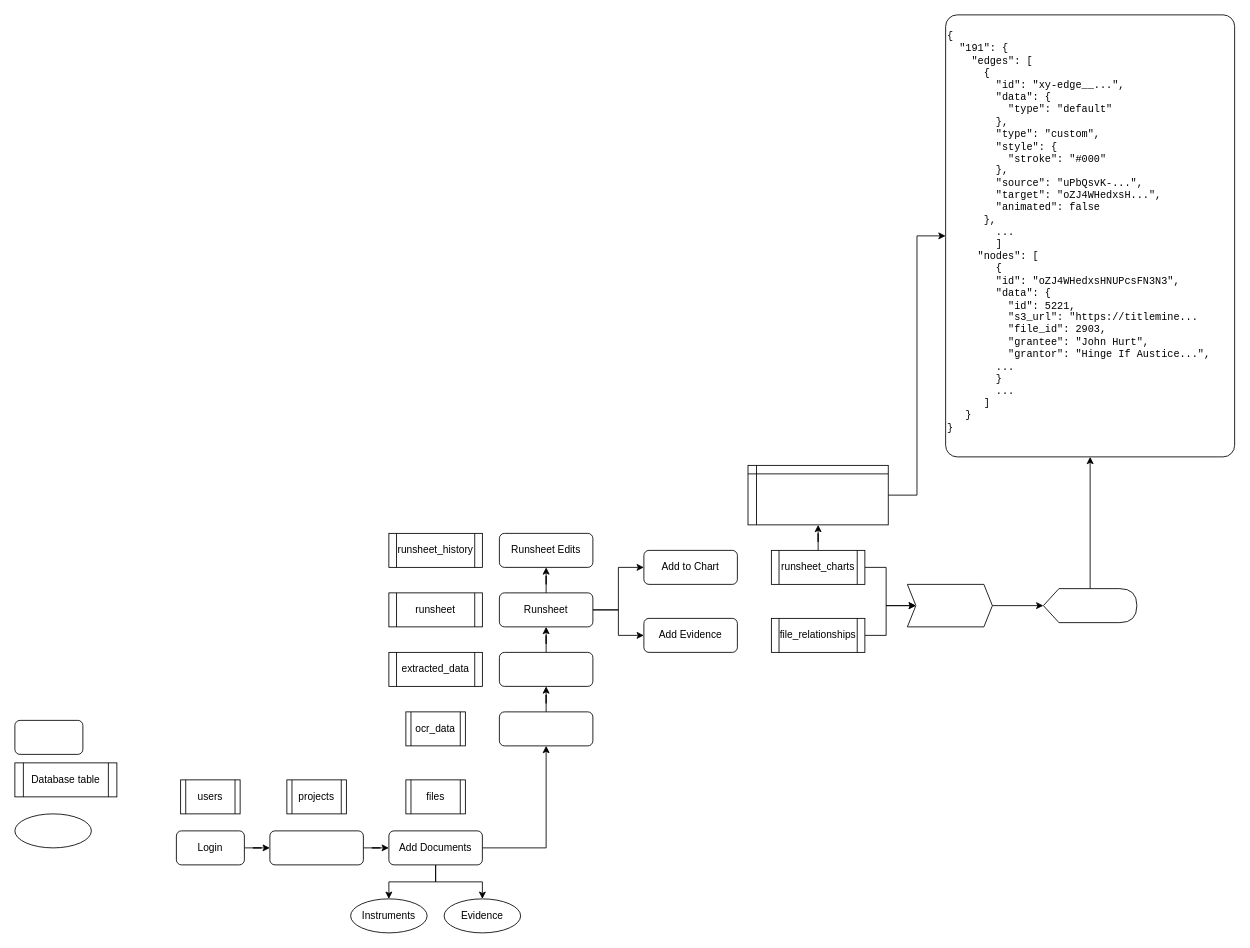
Image size: 1250x948. Some labels were removed from this diagram. The box of each missing label's shape, as (x1, y1, x2, y2) in pixels:
Add Project: (269, 830, 363, 865)
chart: jsonb with nodes and edges for each project_id: (747, 465, 888, 525)
Combined: (907, 584, 992, 627)
Entity: (14, 813, 91, 848)
Extraction: (499, 652, 593, 686)
Flowchart: (1043, 588, 1137, 623)
OCR: (499, 711, 593, 746)
Step: (14, 720, 83, 754)
